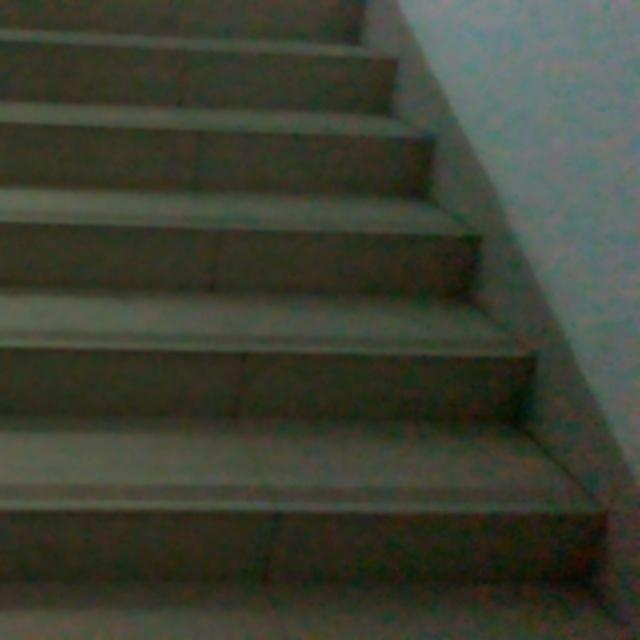stair: (0, 0, 616, 608)
